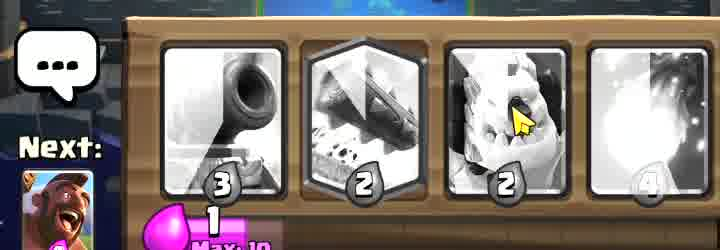hog-rider: (23, 171, 93, 250)
ice-golem: (445, 51, 558, 198)
